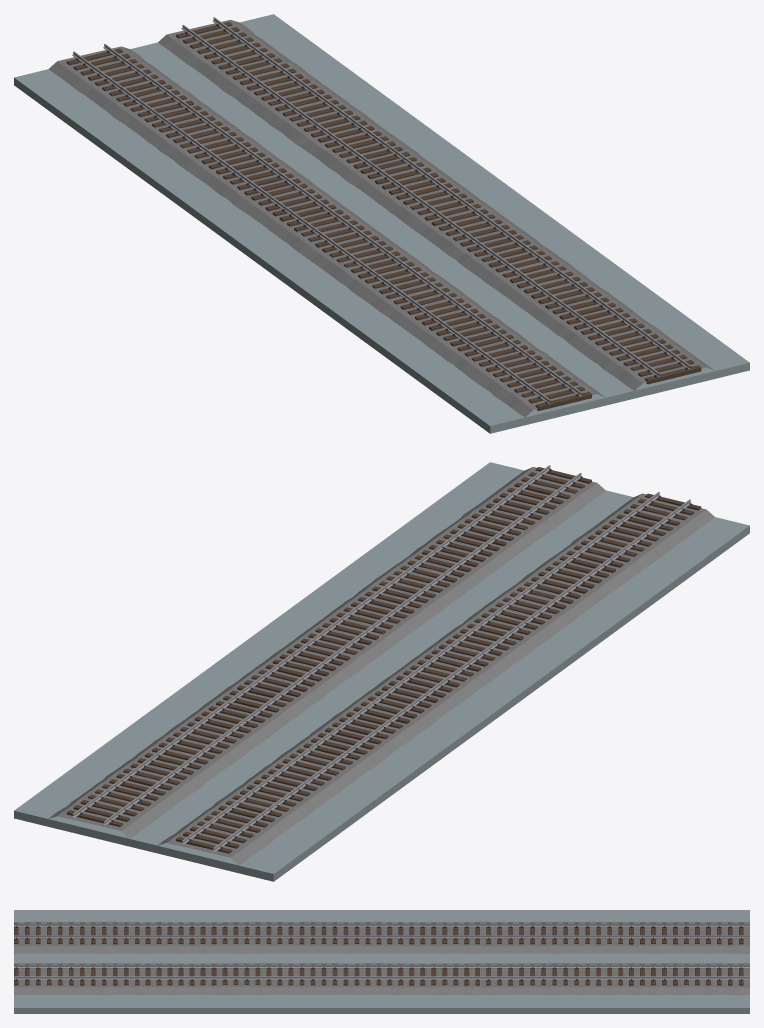
The model's file is RailwayModule.fbx.
The picture shows the model from 3 angles, top to bottom: view 1: azimuth 30°, elevation 25°; view 2: azimuth 150°, elevation 25°; view 3: azimuth 270°, elevation 25°; orthographic projection. The views are drawn at different scales.
Parts seen in each view (by area): view 1: RailwayModule; view 2: RailwayModule; view 3: RailwayModule.
Part boxes in pixels (box(x1,y1,x2,y2)): RailwayModule: box(14, 14, 749, 433); RailwayModule: box(14, 462, 749, 881); RailwayModule: box(14, 910, 749, 1013).
Bounding box in the file's own units: 1260 × 88.75 × 4000.
